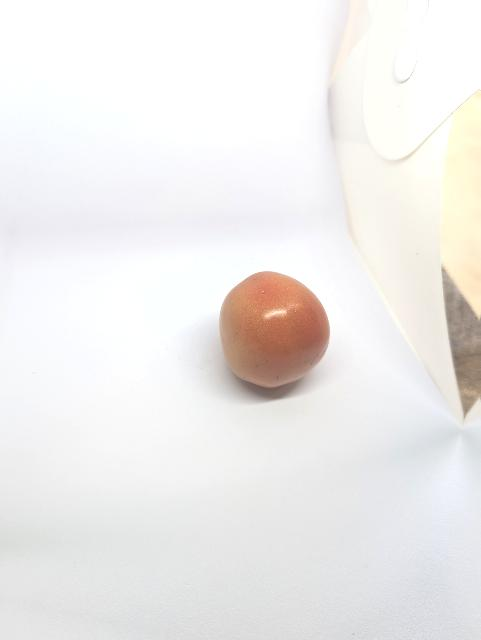turning: (213, 265, 338, 395)
